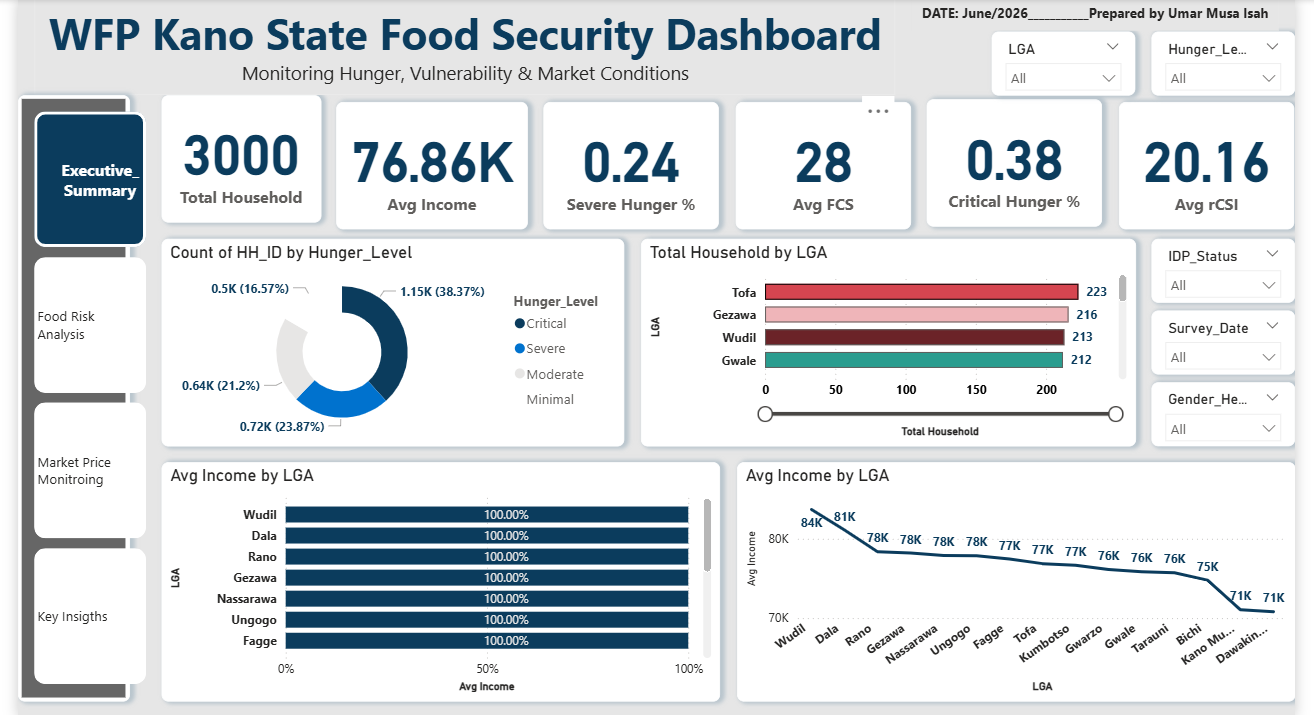

The dashboard page shown, as its layout file describes it:
{"tool":"powerbi","page":{"name":"Executive_Summary","canvas":[1280,720],"ordinal":0},"visuals":[{"type":"card","fields":{"Values":["Household_Data.Total Household"]},"box":[144,96,160,128],"z":0},{"type":"card","fields":{"Values":["Household_Data.Avg Income"]},"box":[318.7,102.5,192,128],"z":1000},{"type":"card","fields":{"Values":["Household_Data.Severe Hunger %"]},"box":[526.7,102.5,176,128],"z":2000},{"type":"card","fields":{"Values":["Household_Data.Critical Hunger %"]},"box":[910.7,101.1,176,128],"z":3000},{"type":"card","fields":{"Values":["Household_Data.Avg FCS"]},"box":[718.7,102.5,176,128],"z":4000},{"type":"card","fields":{"Values":["Household_Data.Avg rCSI"]},"box":[1102.7,102.5,176,128],"z":5000},{"type":"hundredPercentStackedBarChart","fields":{"Y":["Household_Data.Avg Income"],"Category":["Household_Data.LGA"]},"box":[144,464,560,240],"z":6000},{"type":"donutChart","fields":{"Category":["Household_Data.Hunger_Level"],"Y":["CountNonNull(Household_Data.HH_ID)"]},"box":[144,240,464,208],"z":7000},{"type":"clusteredBarChart","fields":{"Category":["Household_Data.LGA"],"Y":["Household_Data.Total Household"]},"box":[624,240,496,208],"z":8000},{"type":"slicer","fields":{"Values":["Household_Data.LGA"]},"box":[976,32,144,64],"z":9000},{"type":"slicer","fields":{"Values":["Household_Data.Hunger_Level"]},"box":[1136,32,144,64],"z":10000},{"type":"slicer","fields":{"Values":["Household_Data.Gender_Head"]},"box":[1136,384,144,64],"z":11000},{"type":"slicer","fields":{"Values":["Household_Data.IDP_Status"]},"box":[1136,240,144,64],"z":12000},{"type":"slicer","fields":{"Values":["Household_Data.Survey_Date"]},"box":[1136,312,144,64],"z":13000},{"type":"textbox","box":[16,0,864,96],"z":14000},{"type":"textbox","box":[896,0,368,32],"z":15000},{"type":"lineChart","fields":{"Y":["Household_Data.Avg Income"],"Category":["Household_Data.LGA"]},"box":[720,464,560,240],"z":16000},{"type":"shape","box":[0,96,112,608],"z":17000},{"type":"pageNavigator","box":[16,112,112,576],"z":18000}]}

Visuals, with their boxes on the page's 1280x720 design canvas (x1, y1, x2, y2). These are canvas units, not pixel positions in the 1314x715 screenshot, which may show the page scaled, cropped or inside an application window:
card - Household_Data.Total Household: [144, 96, 304, 224]
card - Household_Data.Avg Income: [319, 102, 511, 230]
card - Household_Data.Severe Hunger %: [527, 102, 703, 230]
card - Household_Data.Critical Hunger %: [911, 101, 1087, 229]
card - Household_Data.Avg FCS: [719, 102, 895, 230]
card - Household_Data.Avg rCSI: [1103, 102, 1279, 230]
hundredPercentStackedBarChart - Household_Data.Avg Income x Household_Data.LGA: [144, 464, 704, 704]
donutChart - Household_Data.Hunger_Level x CountNonNull(Household_Data.HH_ID): [144, 240, 608, 448]
clusteredBarChart - Household_Data.LGA x Household_Data.Total Household: [624, 240, 1120, 448]
slicer - Household_Data.LGA: [976, 32, 1120, 96]
slicer - Household_Data.Hunger_Level: [1136, 32, 1280, 96]
slicer - Household_Data.Gender_Head: [1136, 384, 1280, 448]
slicer - Household_Data.IDP_Status: [1136, 240, 1280, 304]
slicer - Household_Data.Survey_Date: [1136, 312, 1280, 376]
textbox: [16, 0, 880, 96]
textbox: [896, 0, 1264, 32]
lineChart - Household_Data.Avg Income x Household_Data.LGA: [720, 464, 1280, 704]
shape: [0, 96, 112, 704]
pageNavigator: [16, 112, 128, 688]
